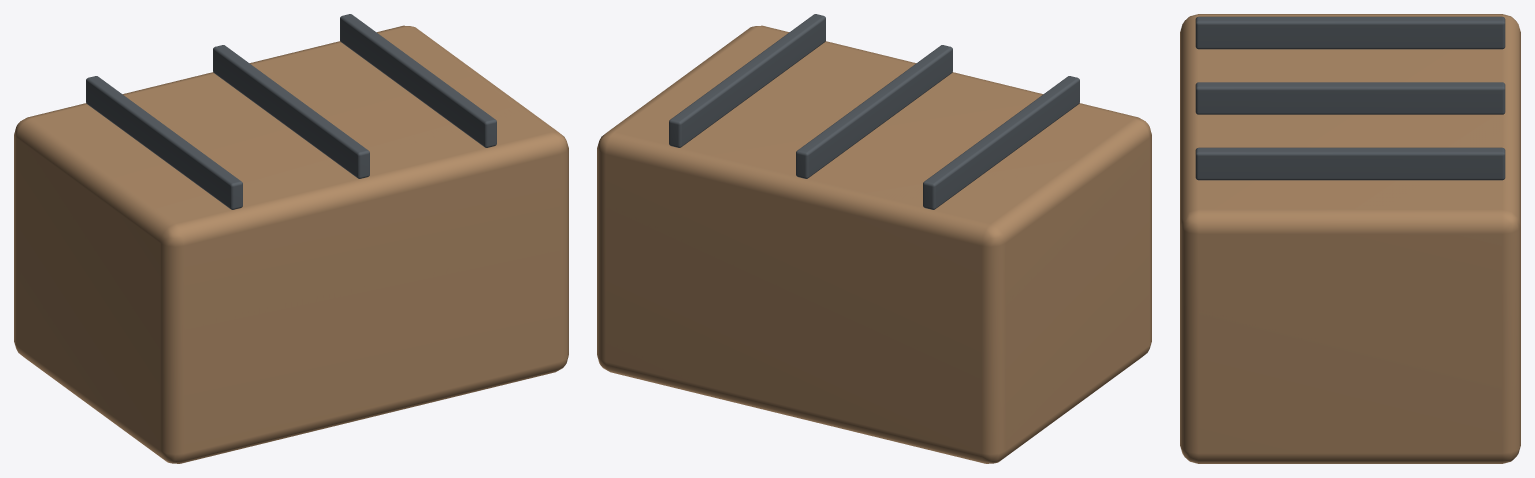
Rendered from atelier-book-stand.glb.
3 views of the same model, side by side, from view 1: azimuth 30°, elevation 25°; view 2: azimuth 150°, elevation 25°; view 3: azimuth 270°, elevation 25° (orthographic). The views are drawn at different scales.
Parts seen in each view (by area): view 1: legs.176, metal.143; view 2: legs.176, metal.143; view 3: legs.176, metal.143.
Boxes of the visible parts, x1,y1,x2,y2 form: legs.176: [14, 25, 568, 463]; metal.143: [86, 14, 496, 209]; legs.176: [597, 25, 1151, 463]; metal.143: [669, 14, 1079, 209]; legs.176: [1180, 14, 1520, 463]; metal.143: [1195, 16, 1505, 180].
Size of the model in its own units: 0.32 by 0.2 by 0.22.
